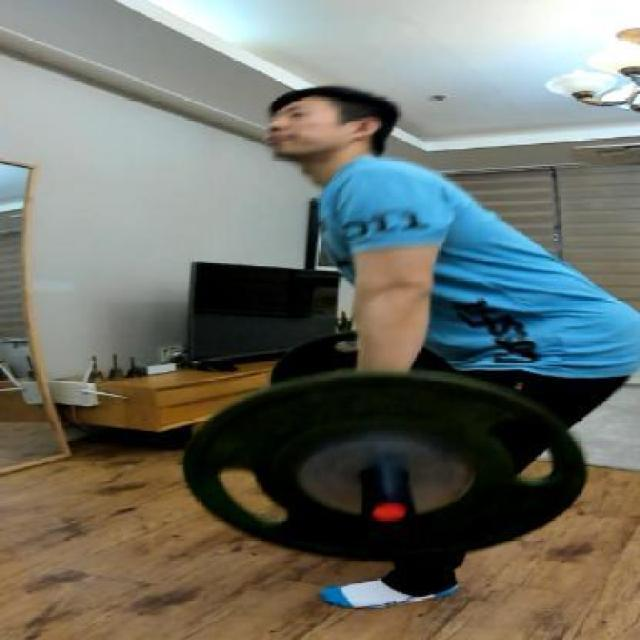barbell: (178, 363, 593, 569)
